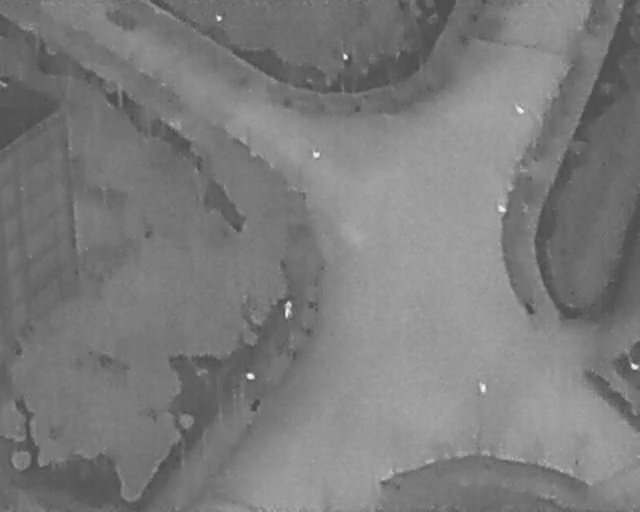Person: (284, 299, 291, 318)
